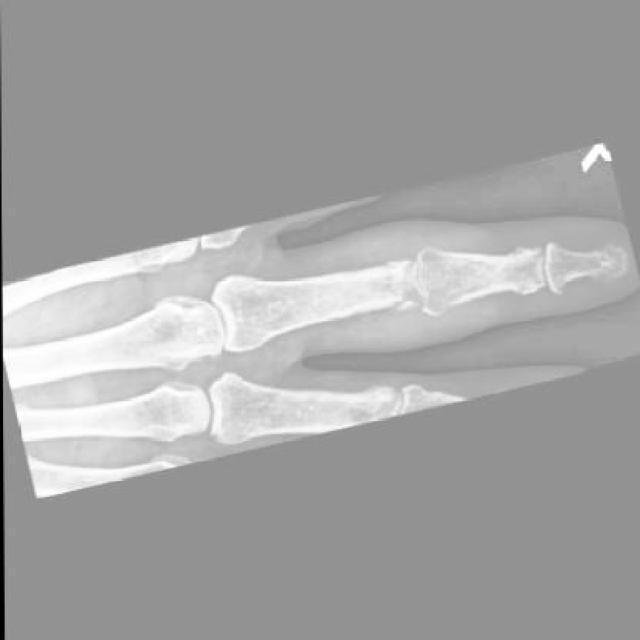Fracture: (374, 256, 419, 319), (346, 382, 394, 425)
